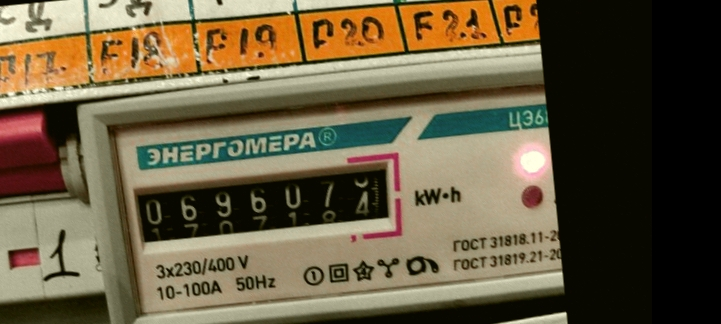0: (141, 194, 164, 226), (281, 178, 303, 209)
4: (350, 187, 371, 217)
6: (175, 190, 200, 222), (247, 183, 268, 213)
7: (316, 176, 336, 207)
9: (212, 188, 233, 218)
screen: (115, 144, 407, 261)
